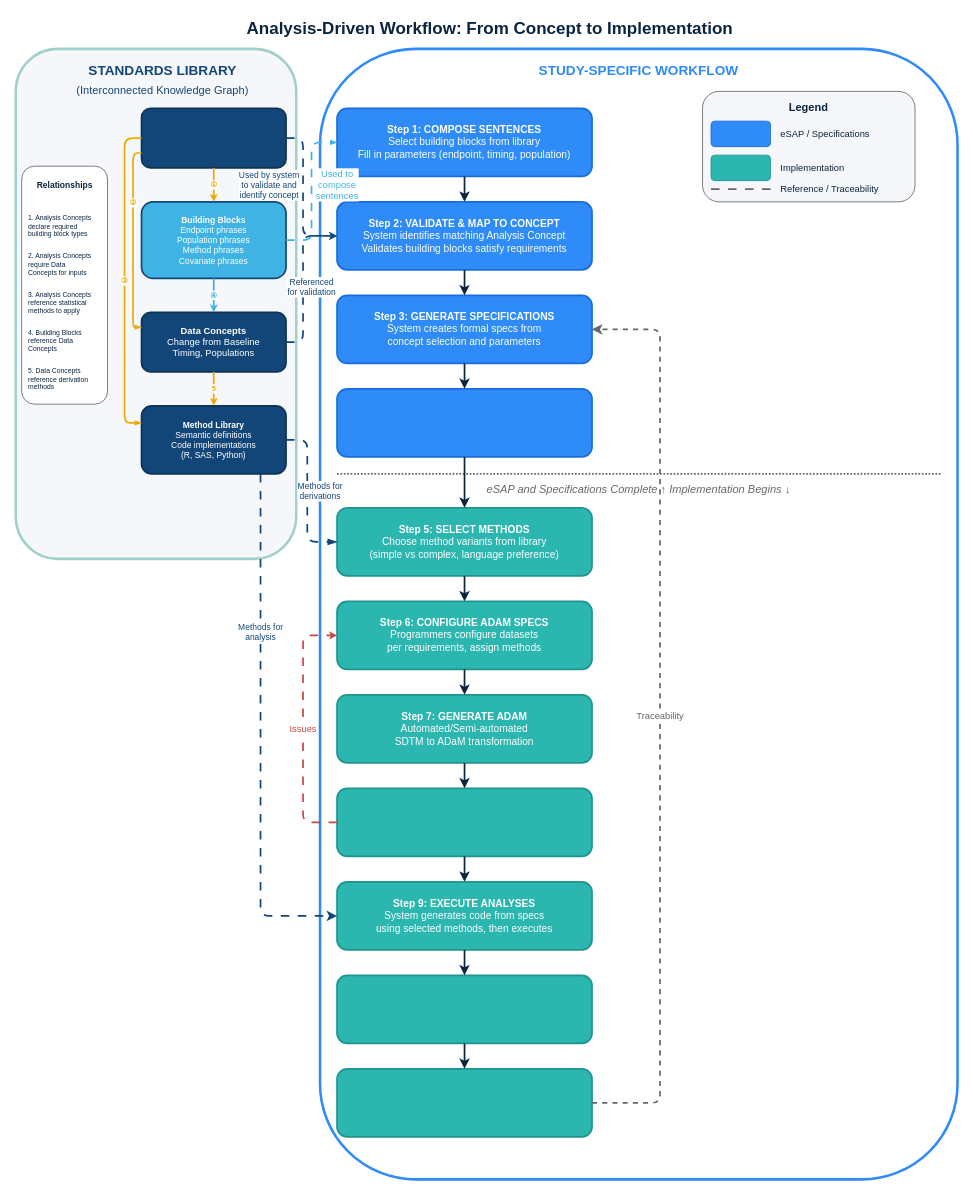
Image size: 973x1195. Some labels were removed from this diagram. The centre of each missing label's shape, as x and y in pixels:
"Analysis Concepts Dose-Response Test ANCOVA, Summary Stats" goes at (213,137).
"Step 10: RESULTS CUBE System creates structured analysis results" goes at (464,1009).
"Step 11: GENERATE DISPLAYS System generates tables, figures, and dashboards" goes at (464,1102).
"Step 4: AGGREGATE REQUIREMENTS System creates complete ADaM data requirements" goes at (464,422).
"Step 8: VALIDATE DATASETS System validates datasets against requirements" goes at (464,822).
